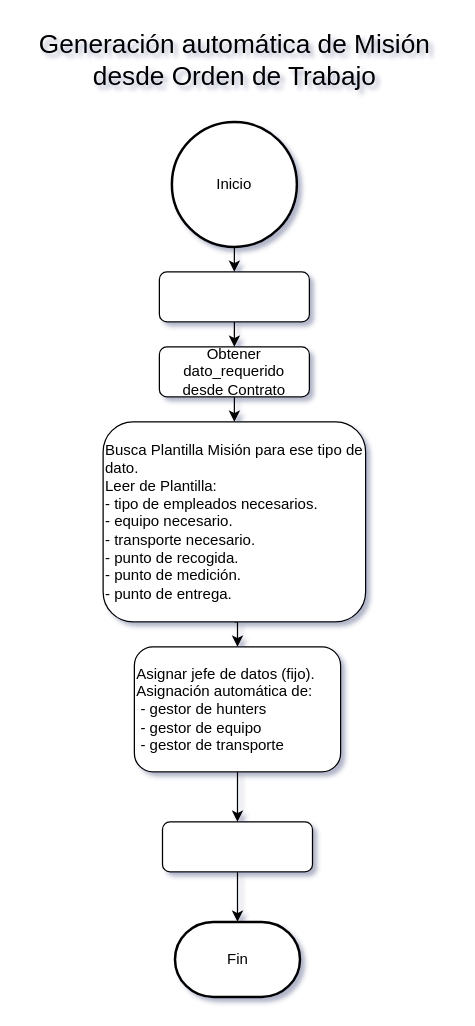
This 475x1026 diagram has some shape labels left out. The shapes that lost their labels are listed below. From the top down, each one's centre as x and y in pixels, then its label:
[233,296]: Recibir Orden de Trabajo
[236,846]: Crear nueva Misión estado = "iniciada"
